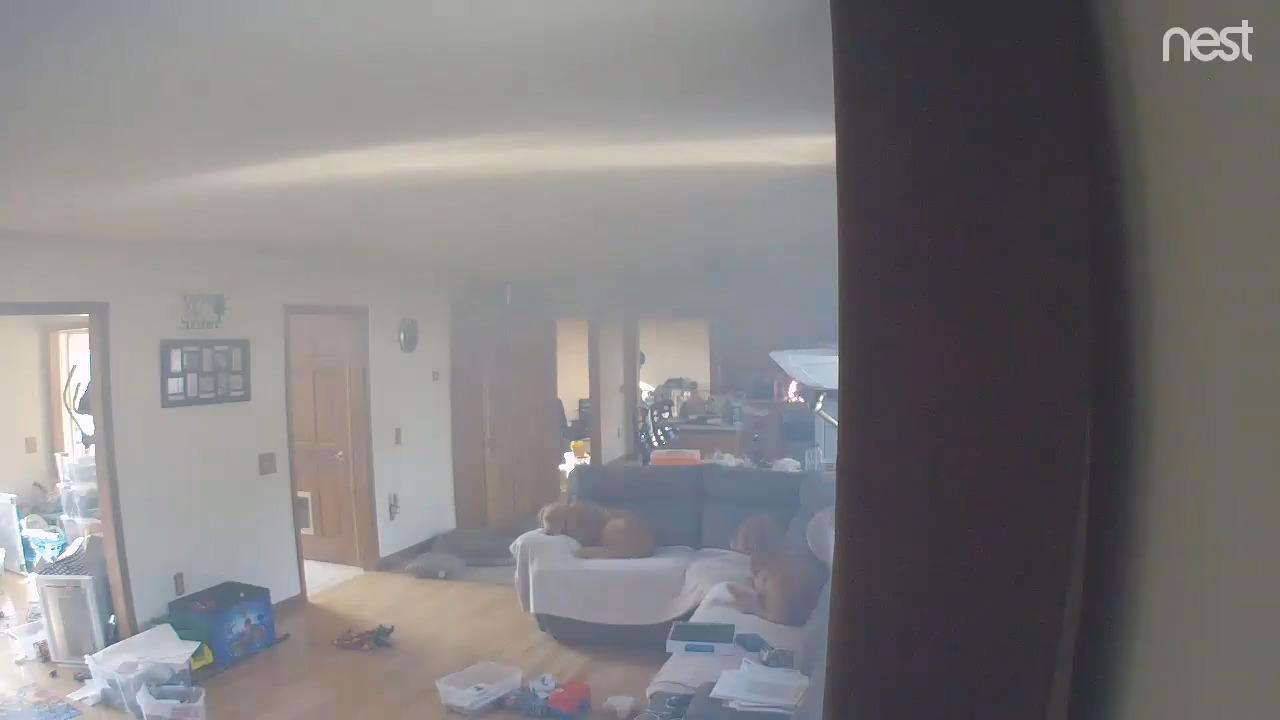fire: (788, 380, 804, 403)
